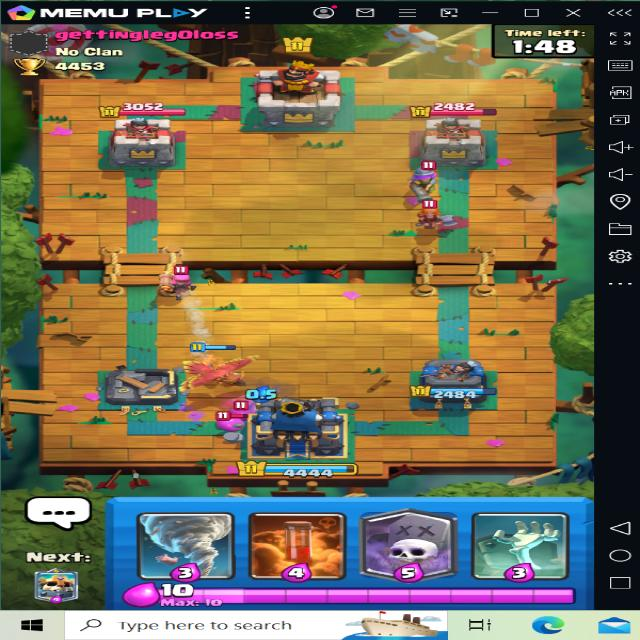electro-golem: (218, 410, 255, 430), (237, 402, 261, 418)
firecracker: (151, 265, 201, 296)
musketeer: (396, 161, 448, 197)
valkyrie: (408, 199, 469, 230)
